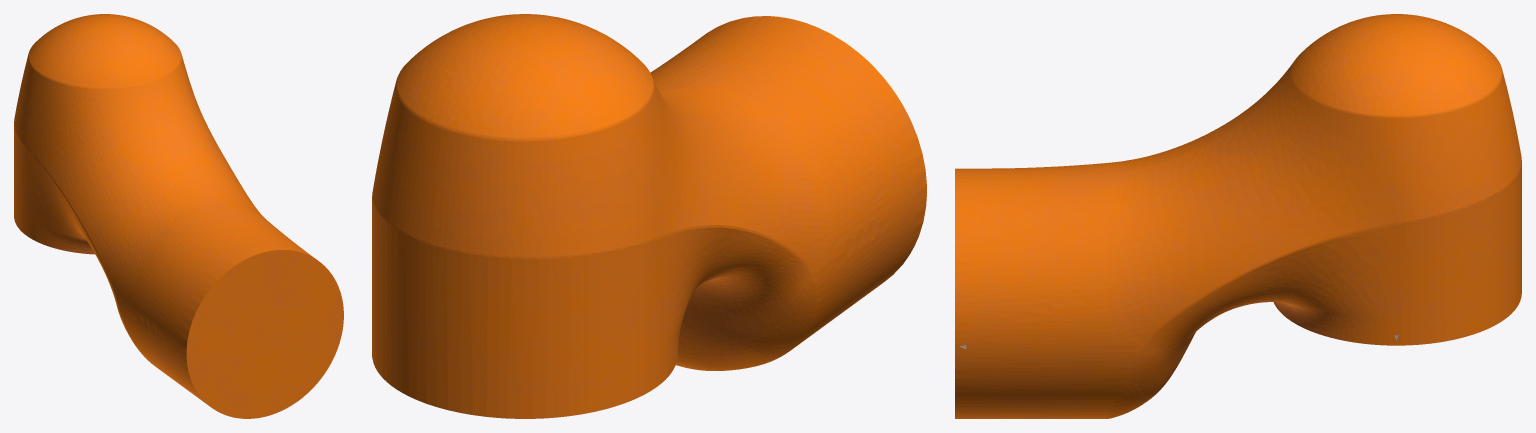
3 renders of one model, left to right at view 1: azimuth 30°, elevation 25°; view 2: azimuth 150°, elevation 25°; view 3: azimuth 270°, elevation 25°, orthographic. The views are drawn at different scales.
Parts seen in each view (by area): view 1: link2; view 2: link2; view 3: link2.
Part boxes in pixels (box(x1,y1,x2,y2)): link2: box(14, 14, 343, 418); link2: box(372, 14, 926, 418); link2: box(955, 14, 1521, 418).
Size of the model in its own units: 11 by 24.9 by 18.44.
1 material, 1 textured.
